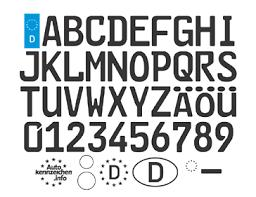0: (22, 120, 44, 153)
1: (44, 121, 66, 154)
2: (66, 121, 86, 153)
3: (88, 120, 107, 153)
4: (108, 121, 128, 153)
5: (129, 120, 150, 153)
6: (151, 120, 171, 153)
7: (172, 120, 192, 154)
8: (193, 121, 213, 154)
9: (214, 120, 236, 153)
A: (43, 14, 62, 47)
B: (63, 14, 84, 47)
C: (85, 13, 106, 47)
D: (107, 13, 128, 47)
E: (129, 13, 151, 47)
F: (151, 14, 171, 47)
G: (174, 14, 194, 47)
H: (194, 13, 217, 47)
I: (219, 14, 236, 47)
J: (18, 49, 40, 82)
K: (41, 49, 62, 82)
L: (63, 50, 85, 82)
M: (85, 50, 106, 82)
N: (107, 50, 128, 83)
O: (128, 51, 150, 82)
P: (151, 49, 172, 82)
Q: (172, 49, 194, 82)
R: (194, 50, 216, 82)
S: (217, 49, 238, 82)
T: (18, 85, 41, 118)
U: (41, 85, 62, 118)
V: (63, 85, 84, 118)
W: (85, 85, 106, 118)
X: (107, 85, 128, 118)
Y: (128, 85, 149, 118)
Z: (151, 86, 172, 118)
ae: (173, 85, 193, 117)
oe: (194, 85, 216, 118)
ue: (216, 85, 238, 119)
